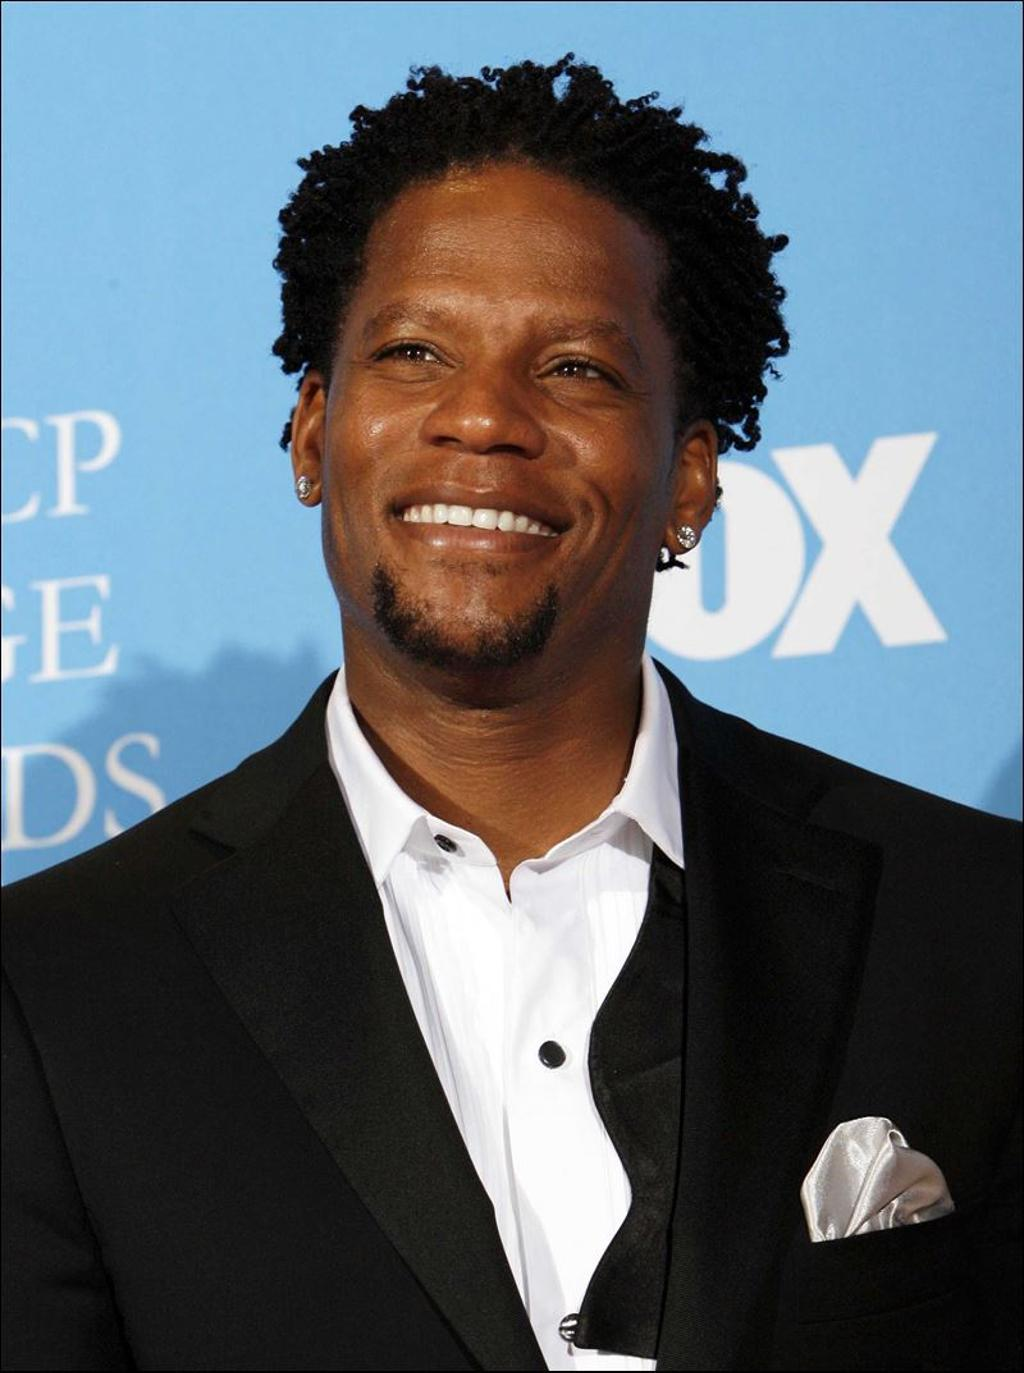face: (336, 181, 660, 664)
